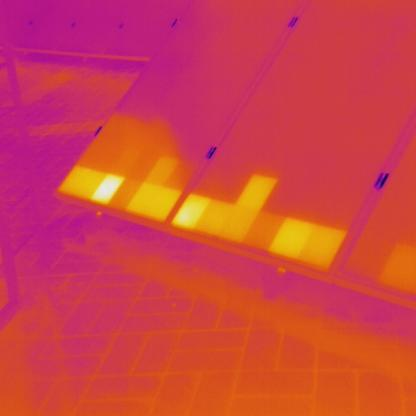hotspot: (268, 210, 316, 261), (128, 177, 180, 220), (304, 222, 346, 269), (236, 174, 278, 209), (171, 190, 207, 230), (60, 164, 97, 200), (92, 170, 124, 208), (144, 154, 179, 185)
